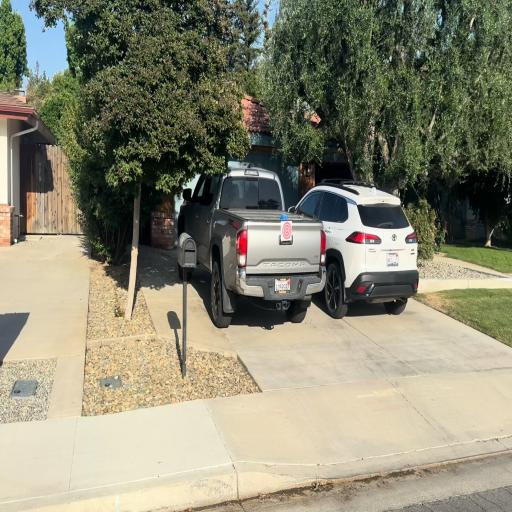bullseye: (282, 221, 292, 241)
